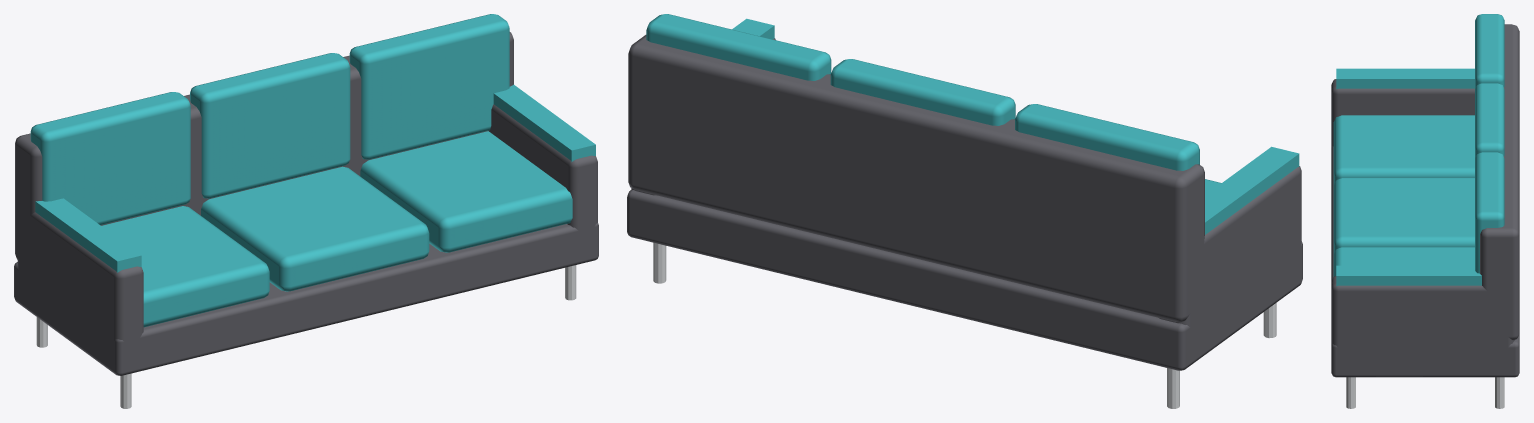
The model's file is tattoo-and-piercing-studio-waiting-sofa-run-teal-1fe21915__34549.glb.
The picture shows the model from 3 angles, left to right: view 1: azimuth 30°, elevation 25°; view 2: azimuth 150°, elevation 25°; view 3: azimuth 270°, elevation 25°; orthographic projection. The views are drawn at different scales.
Visible parts, largest first — view 1: waiting-sofa-run-teal; view 2: waiting-sofa-run-teal; view 3: waiting-sofa-run-teal.
Part boxes in pixels (<box>): waiting-sofa-run-teal: <box>14,14,598,408</box>; waiting-sofa-run-teal: <box>627,14,1302,408</box>; waiting-sofa-run-teal: <box>1331,14,1519,408</box>.
Size of the model in its own units: 2 by 0.88 by 0.7601.
